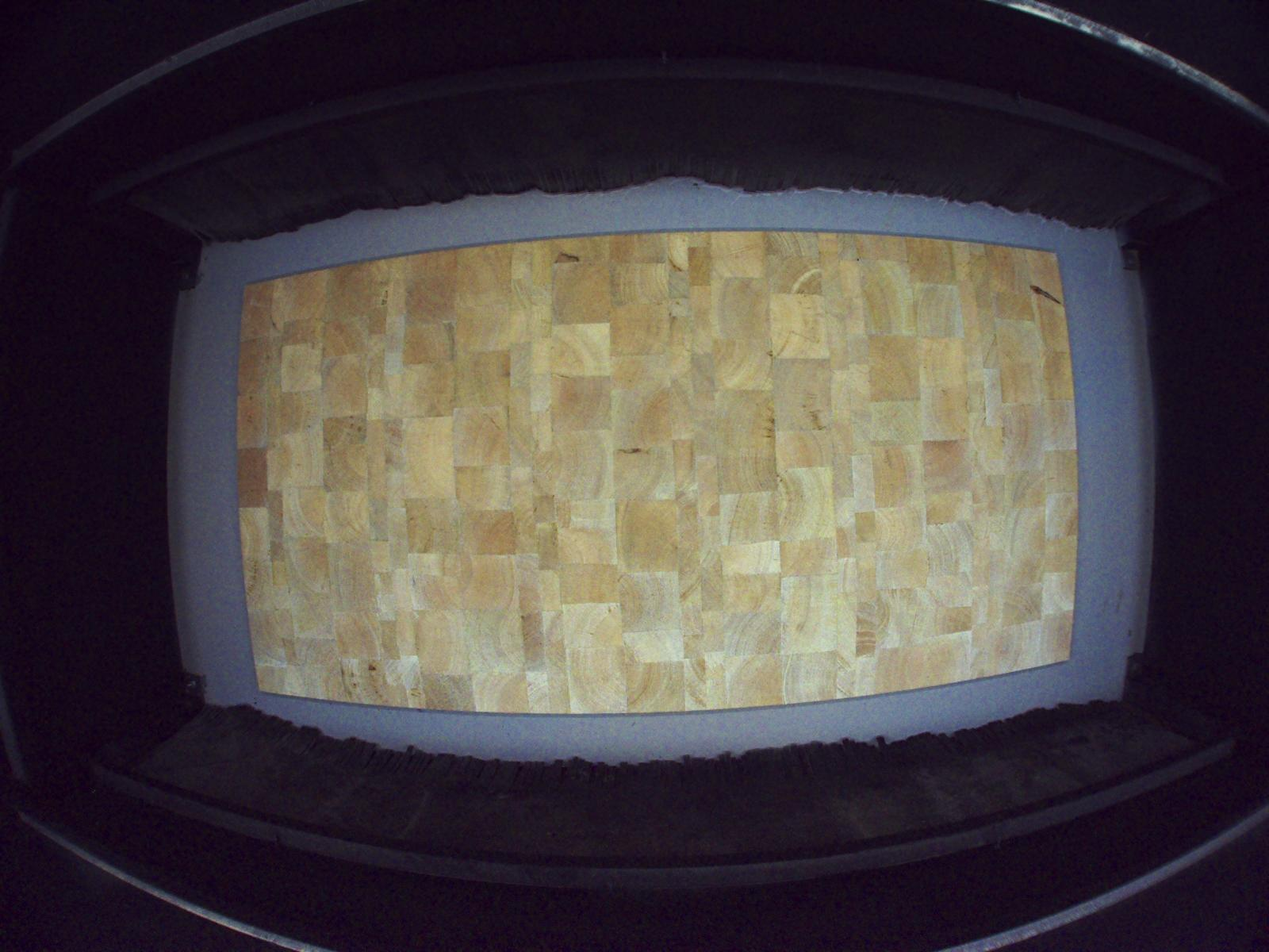nudillo: (1029, 280, 1064, 309)
